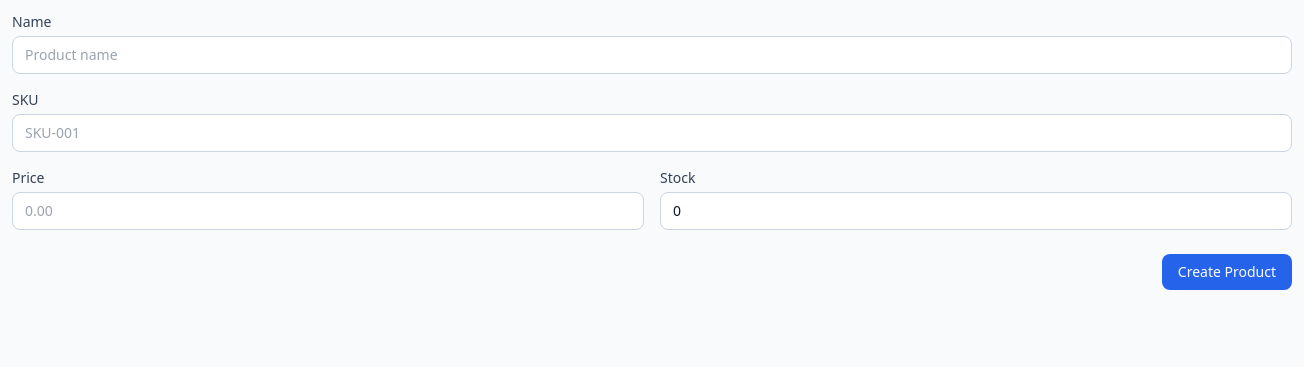
Test: ProductForm › shows validation errors for empty submission
Step 1. Click the button "Create Product" → (1227, 272), box [1162,254,1292,290]
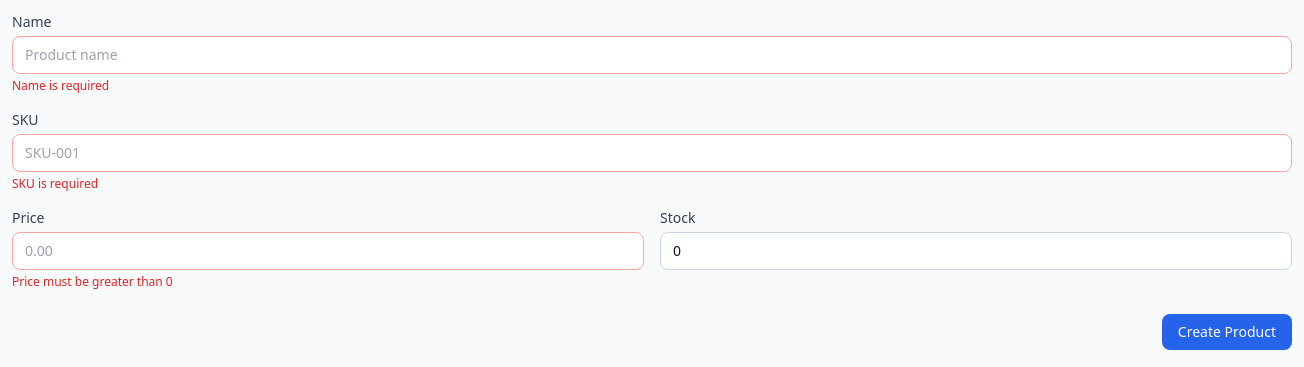
Expected: the text "Name is required" is shown, [12,77,109,94]
Expected: the text "SKU is required" is shown, [12,175,98,192]
